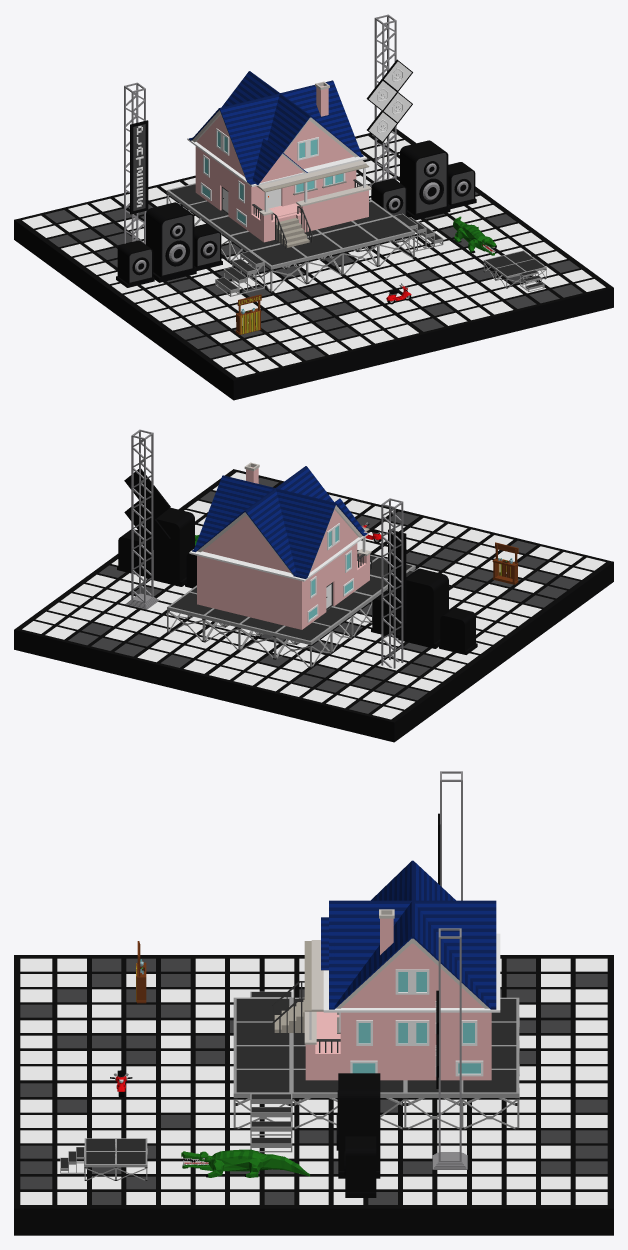
3 views of the same model, one above another, from view 1: azimuth 30°, elevation 25°; view 2: azimuth 150°, elevation 25°; view 3: azimuth 270°, elevation 25° (orthographic). The views are drawn at different scales.
Visible parts, largest first — view 1: Cube.008, Cube.313, ANIMAL_COCODRILO, OBJRANDOM_LEMONADE_STAND; view 2: Cube.008, Cube.313, OBJRANDOM_LEMONADE_STAND; view 3: Cube.008, Cube.313, ANIMAL_COCODRILO.
Part boxes in pixels (<box>): Cube.008: <box>14,14,613,400</box>; Cube.313: <box>187,71,371,248</box>; ANIMAL_COCODRILO: <box>453,216,496,255</box>; OBJRANDOM_LEMONADE_STAND: <box>235,294,261,335</box>; Cube.008: <box>14,429,613,742</box>; Cube.313: <box>189,462,372,629</box>; OBJRANDOM_LEMONADE_STAND: <box>492,542,518,584</box>; Cube.008: <box>14,771,613,1235</box>; Cube.313: <box>272,860,500,1080</box>; ANIMAL_COCODRILO: <box>181,1149,310,1177</box>.
Bounding box in the file's own units: 4000 × 1975 × 4000.
42 materials, 1 textured.
